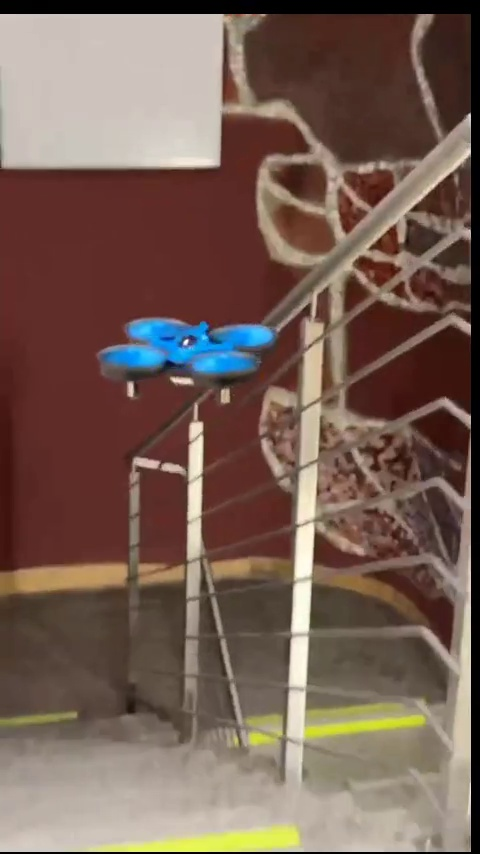drone: (100, 317, 275, 401)
